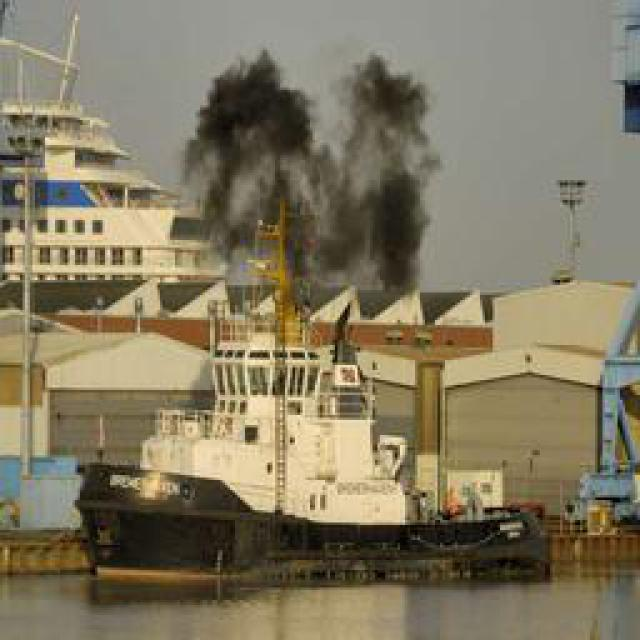Ship: (58, 334, 558, 600)
